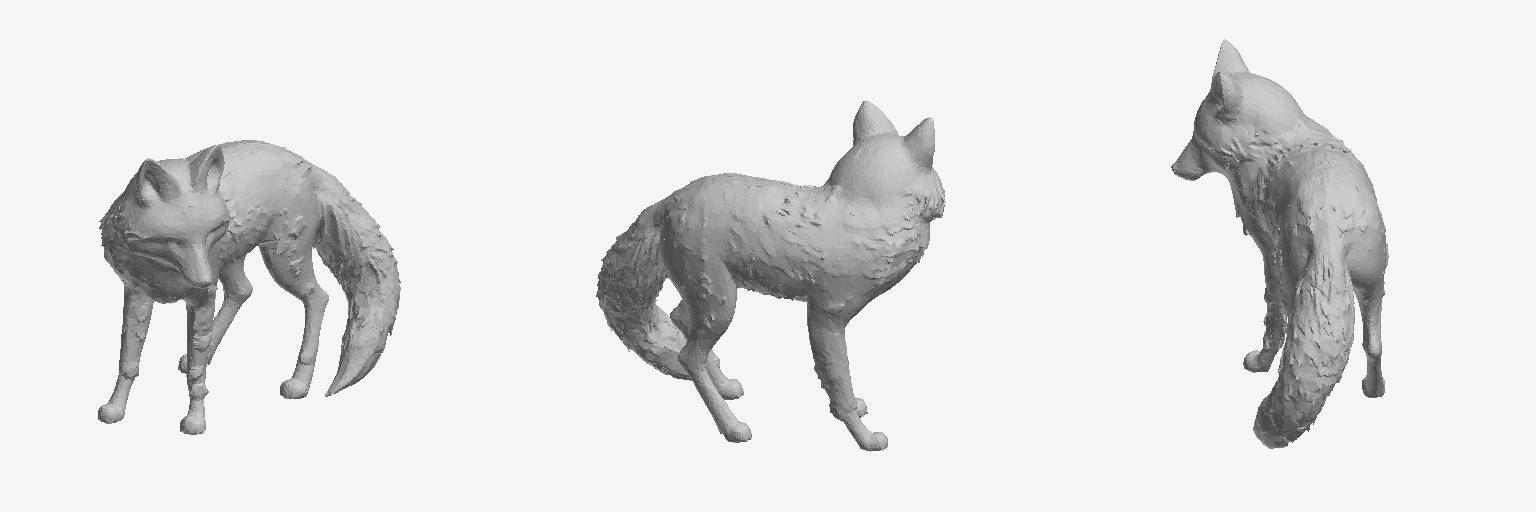
File: test_quad_v3.obj
3 renders of one model, left to right at view 1: azimuth 30°, elevation 25°; view 2: azimuth 150°, elevation 25°; view 3: azimuth 270°, elevation 25°, orthographic.
Bounding box in the file's own units: 1.98 × 1.85 × 1.21.